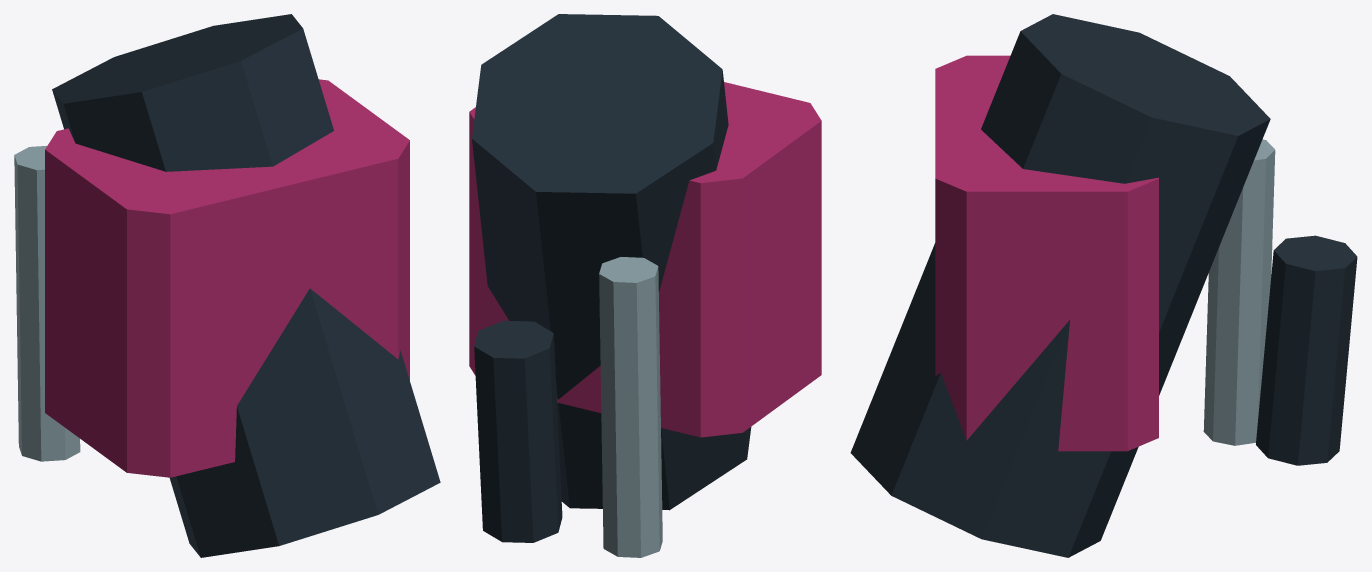
The model's file is enemy_striker_thigh_r.obj.
3 views of the same model, side by side, from view 1: azimuth 30°, elevation 25°; view 2: azimuth 150°, elevation 25°; view 3: azimuth 270°, elevation 25° (orthographic). The views are drawn at different scales.
Size of the model in its own units: 0.3939 by 0.5985 by 0.5667.
